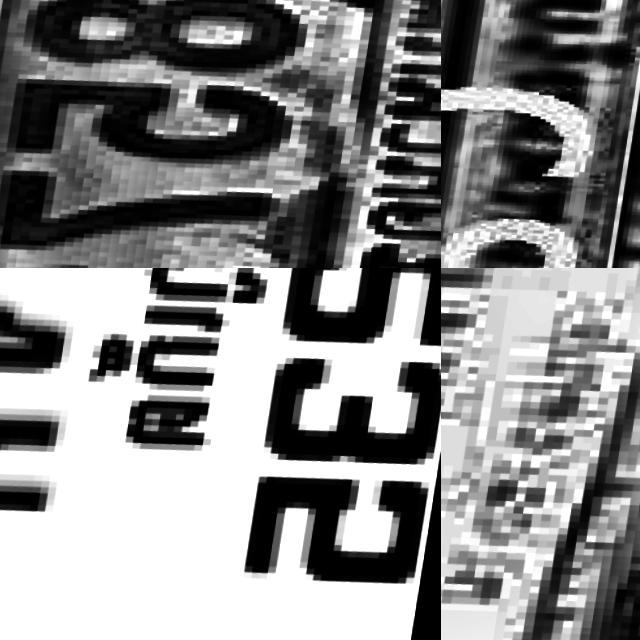license-plate: (0, 268, 441, 640), (0, 0, 441, 268), (441, 268, 640, 640), (441, 0, 640, 268)
